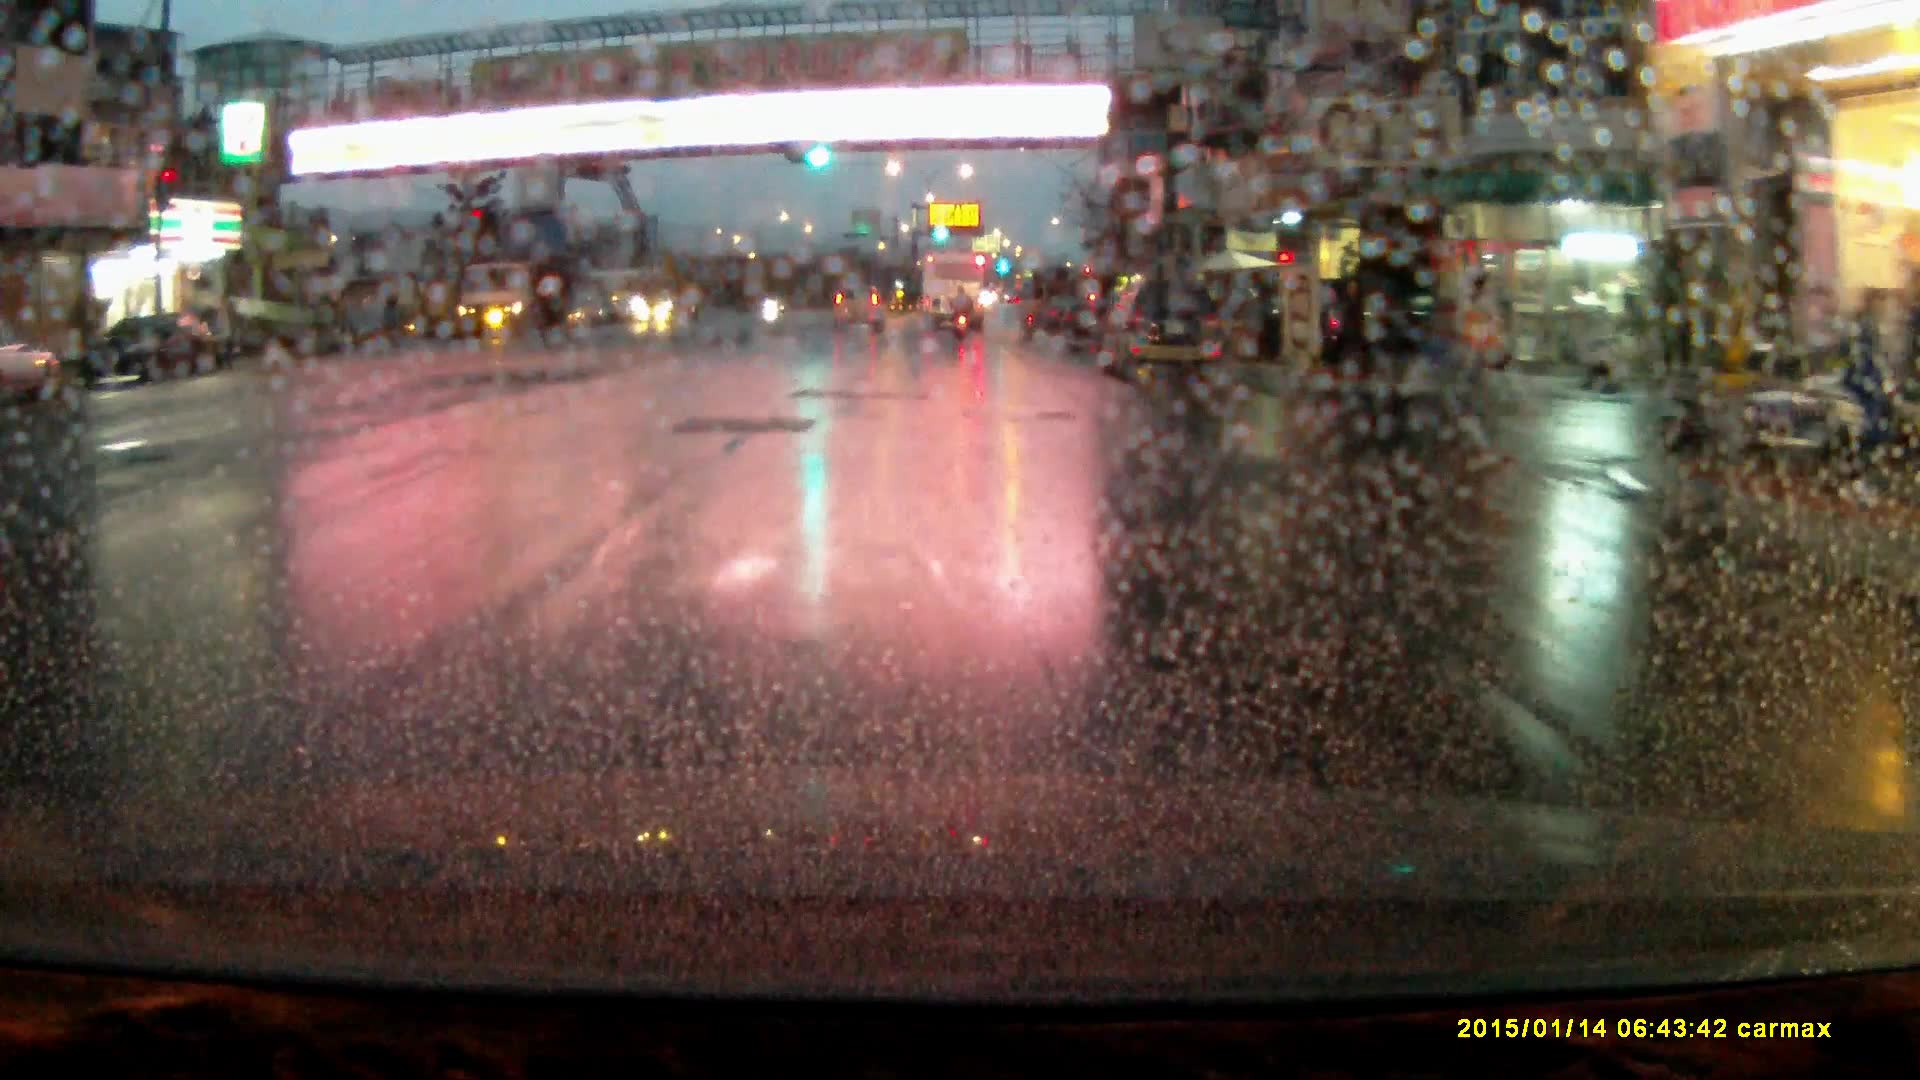pedestrian: (1446, 278, 1503, 432)
rider: (951, 285, 974, 342)
vehicle: (1100, 279, 1224, 392), (72, 320, 216, 395), (1324, 283, 1435, 370), (449, 263, 568, 341), (1, 329, 71, 412), (923, 257, 985, 335), (632, 280, 699, 330), (833, 291, 887, 339)
